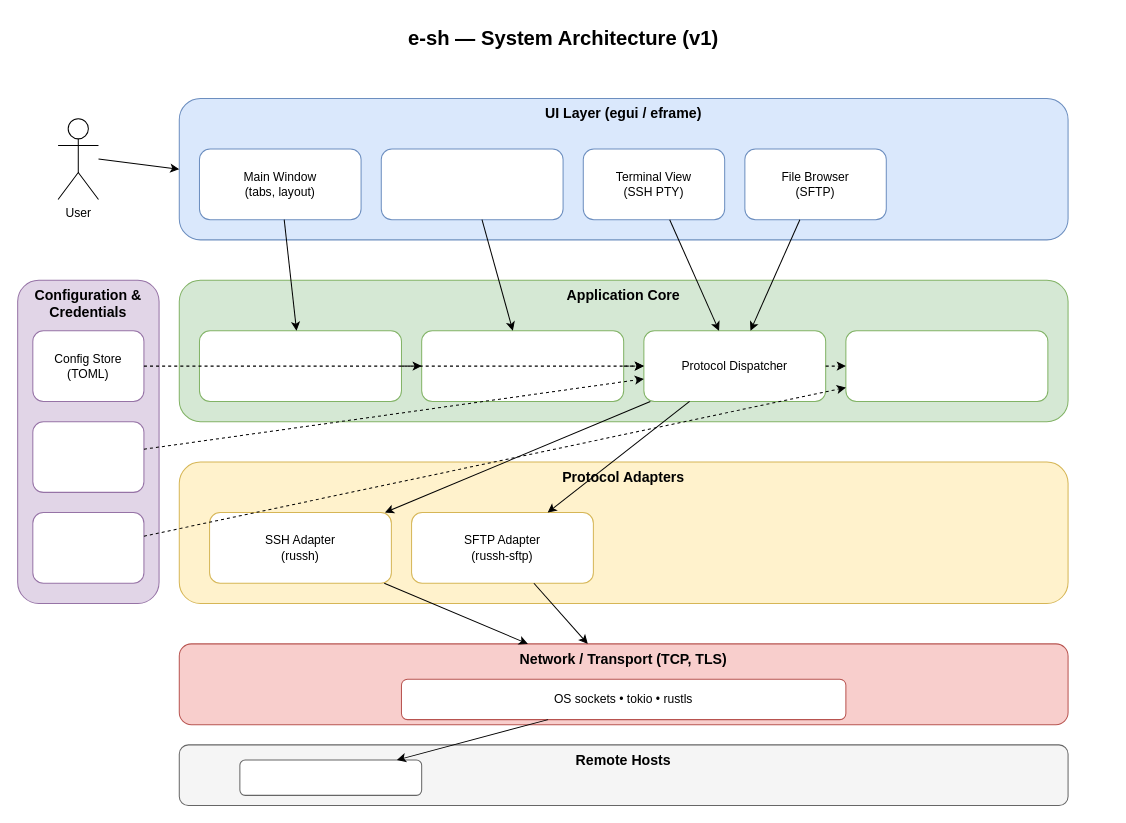
Some shapes in this 1126 by 823 pixel diagram are drawn without their labels. Each missing label, with the centre of its shape:
Connection Manager UI (bookmarks, search): (x=471, y=184)
Connection Registry (profiles, tags): (x=522, y=365)
Credential Store (OS keyring): (x=88, y=456)
Event Bus / Async Runtime (tokio): (x=946, y=365)
Logs / Telemetry (opt-in): (x=88, y=547)
Session Manager (lifecycle, tabs, events): (x=299, y=365)
SSH/SFTP Server: (x=330, y=777)
